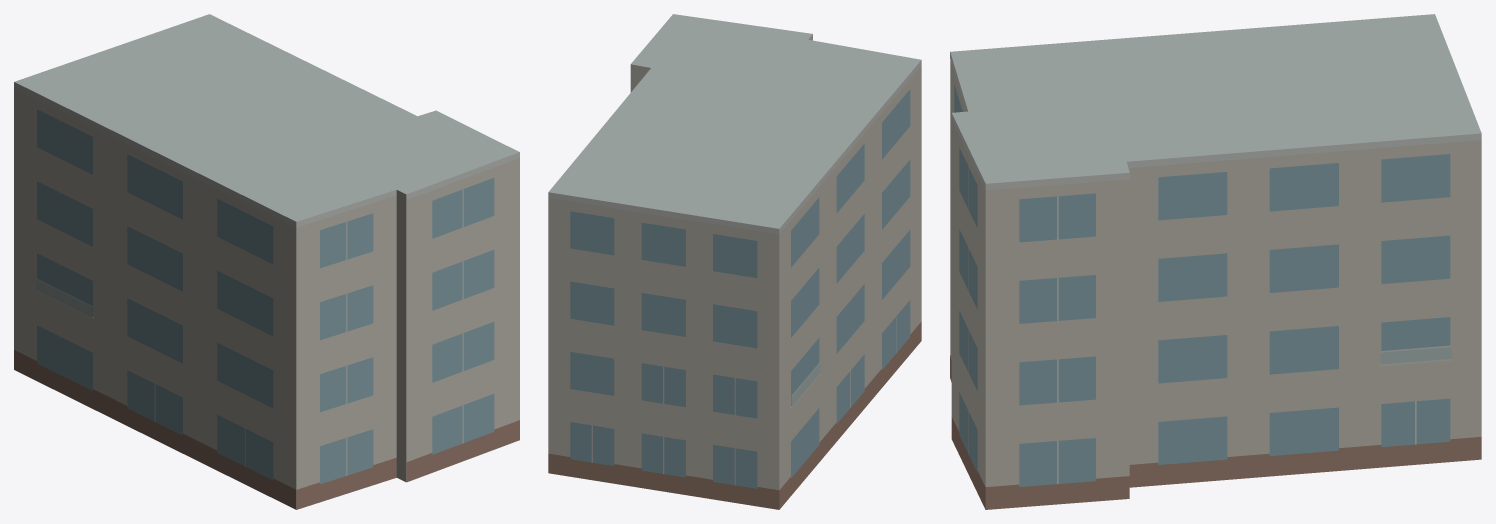
The model's file is survey-upis-32928008.glb.
3 renders of one model, left to right at view 1: azimuth 30°, elevation 25°; view 2: azimuth 150°, elevation 25°; view 3: azimuth 270°, elevation 25°, orthographic. The views are drawn at different scales.
Parts seen in each view (by area): view 1: survey-upis-32928008.tmp; view 2: survey-upis-32928008.tmp; view 3: survey-upis-32928008.tmp.
Part boxes in pixels (x1,y1,x2,y2): survey-upis-32928008.tmp: (14,14,519,509); survey-upis-32928008.tmp: (548,14,921,509); survey-upis-32928008.tmp: (950,14,1481,509).
Bounding box in the file's own units: 13.63 × 12.2 × 18.03.
